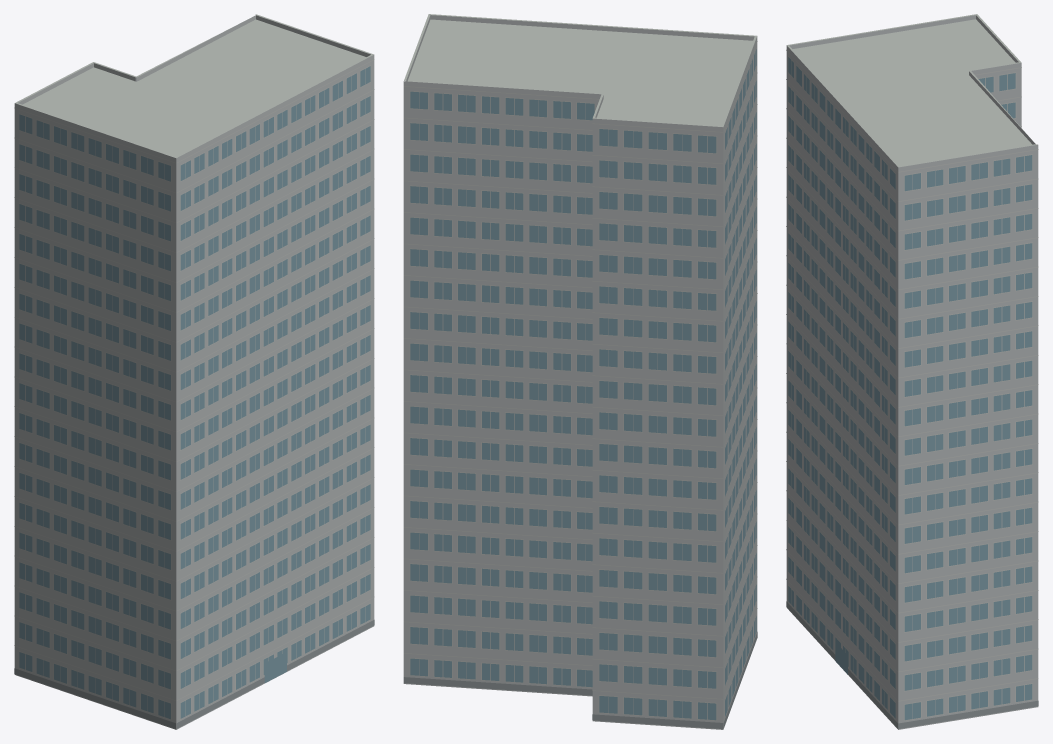
Rendered from civic-a71aa4ef-51aa-4077-8548-fa158f22d995.glb.
3 renders of one model, left to right at view 1: azimuth 30°, elevation 25°; view 2: azimuth 150°, elevation 25°; view 3: azimuth 270°, elevation 25°, orthographic. The views are drawn at different scales.
Visible parts, largest first — view 1: civic-a71aa4ef-51aa-4077-8548-fa158f22d995; view 2: civic-a71aa4ef-51aa-4077-8548-fa158f22d995; view 3: civic-a71aa4ef-51aa-4077-8548-fa158f22d995.
Part boxes in pixels (left/top/right/bottom): civic-a71aa4ef-51aa-4077-8548-fa158f22d995: left=14, top=14, right=374, bottom=729; civic-a71aa4ef-51aa-4077-8548-fa158f22d995: left=403, top=14, right=757, bottom=729; civic-a71aa4ef-51aa-4077-8548-fa158f22d995: left=786, top=14, right=1038, bottom=729.
Bounding box in the file's own units: 52.21 × 89 × 36.26.
